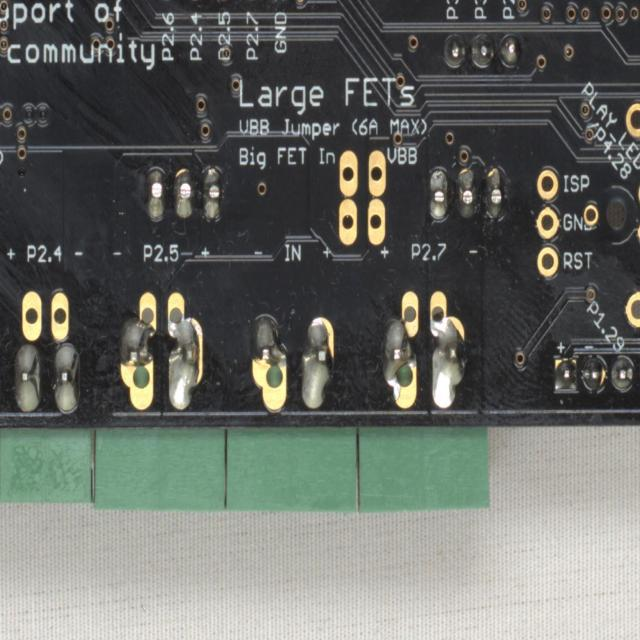connector: (337, 148, 385, 245), (534, 164, 561, 280), (17, 290, 70, 346), (623, 290, 640, 328), (624, 98, 640, 138), (636, 174, 640, 249)
pins: (116, 289, 205, 412), (382, 287, 467, 413), (249, 312, 335, 414), (142, 164, 224, 225), (13, 343, 81, 415), (426, 164, 510, 220), (439, 28, 523, 74), (551, 351, 640, 394), (152, 0, 292, 5)
